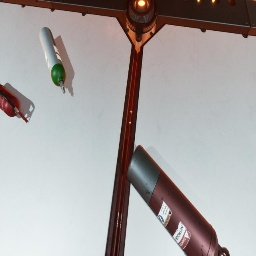0: (39, 27, 66, 94)
FireExtinguisher ]: (0, 83, 28, 123)
NitrogenTank ,: (127, 145, 230, 256)
